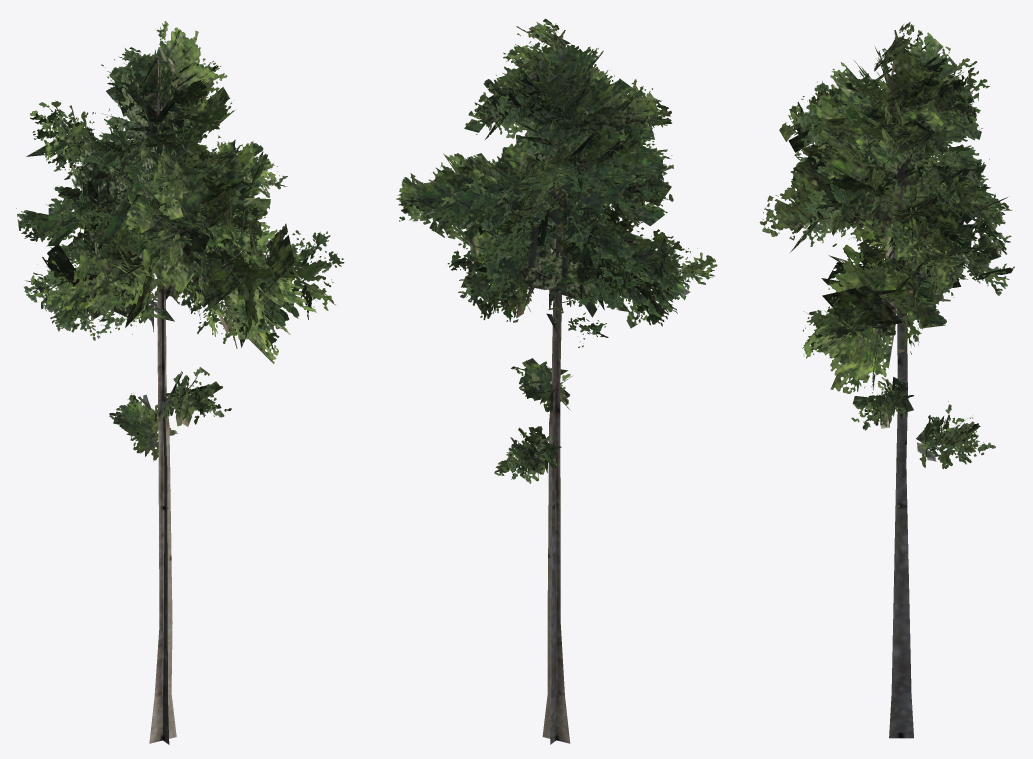
The picture shows the model from 3 angles, left to right: view 1: azimuth 30°, elevation 25°; view 2: azimuth 150°, elevation 25°; view 3: azimuth 270°, elevation 25°; orthographic projection.
Parts seen in each view (by area): view 1: El_high3; view 2: El_high3; view 3: El_high3.
Boxes of the visible parts, left/top/right/bottom form: El_high3: left=16, top=21, right=344, bottom=744; El_high3: left=396, top=19, right=717, bottom=744; El_high3: left=759, top=22, right=1014, bottom=738.
Size of the model in its own units: 1242 by 2829 by 928.
